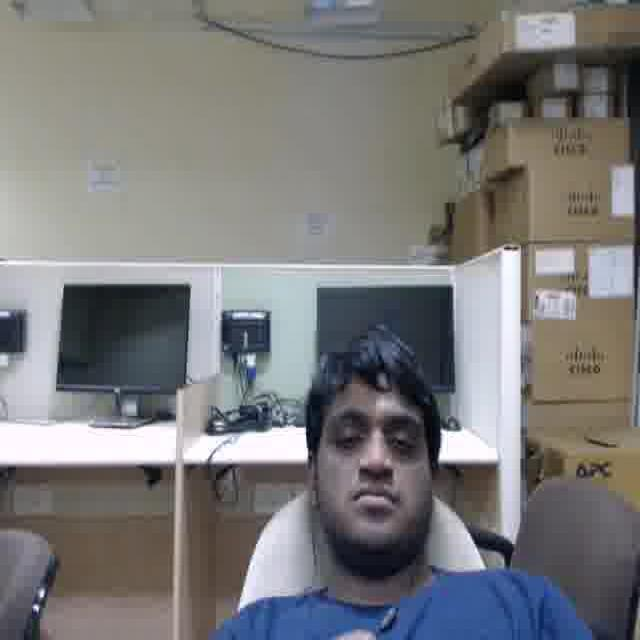Boredom: (318, 376, 425, 541)
